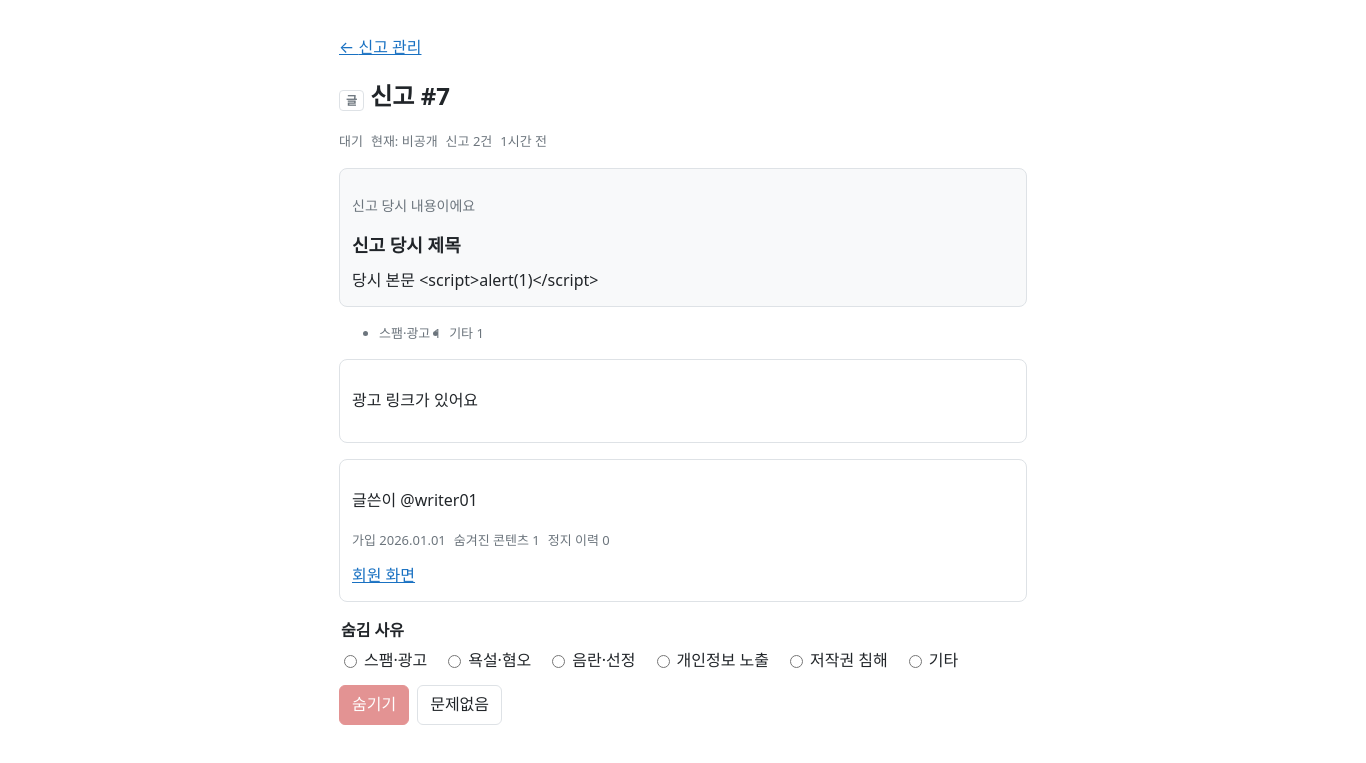
Test: AdminReportDetailPage › 409면 "이미 처리된 신고예요"와 [다시 불러오기]
Click the button "문제없음".
click(460, 705)  # box [417,685,502,725]
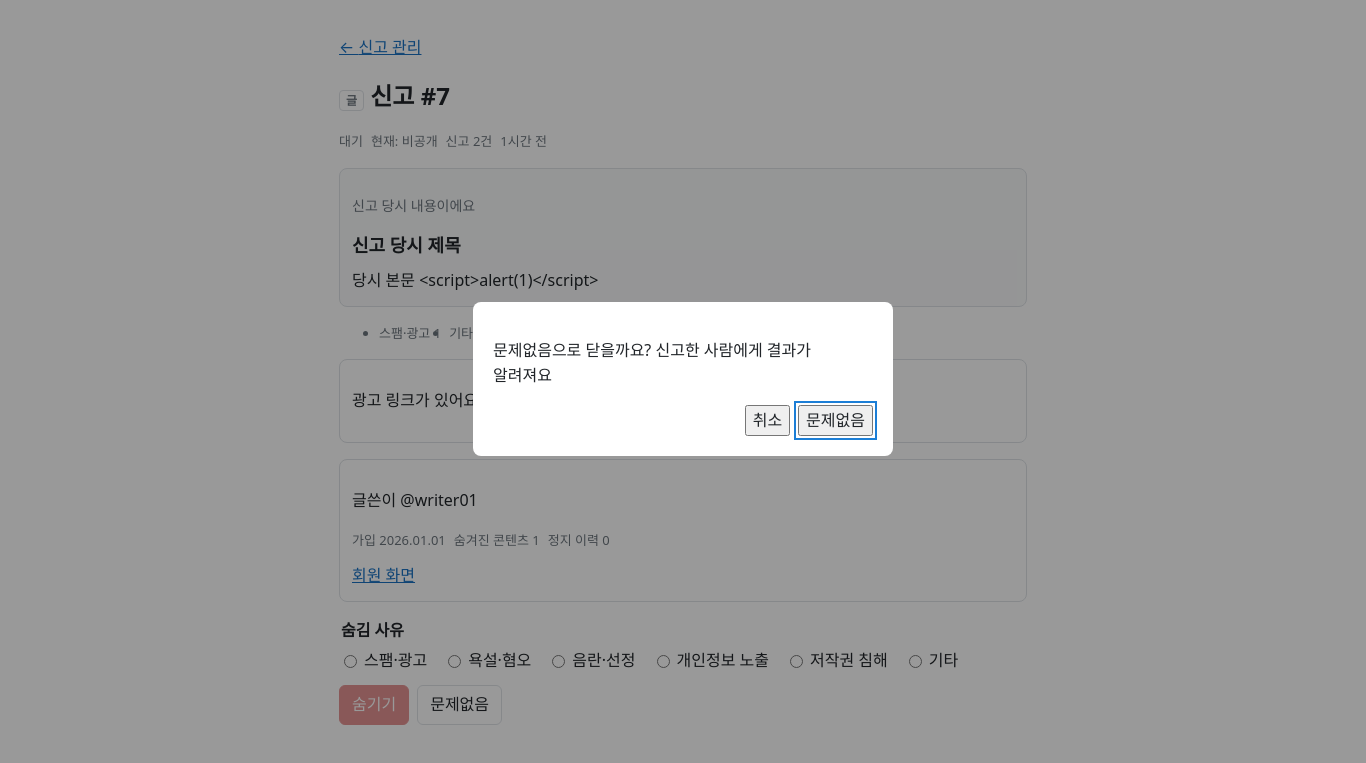
Click the button "문제없음".
click(836, 421)  # box [798,405,873,436]
(page scrolled)
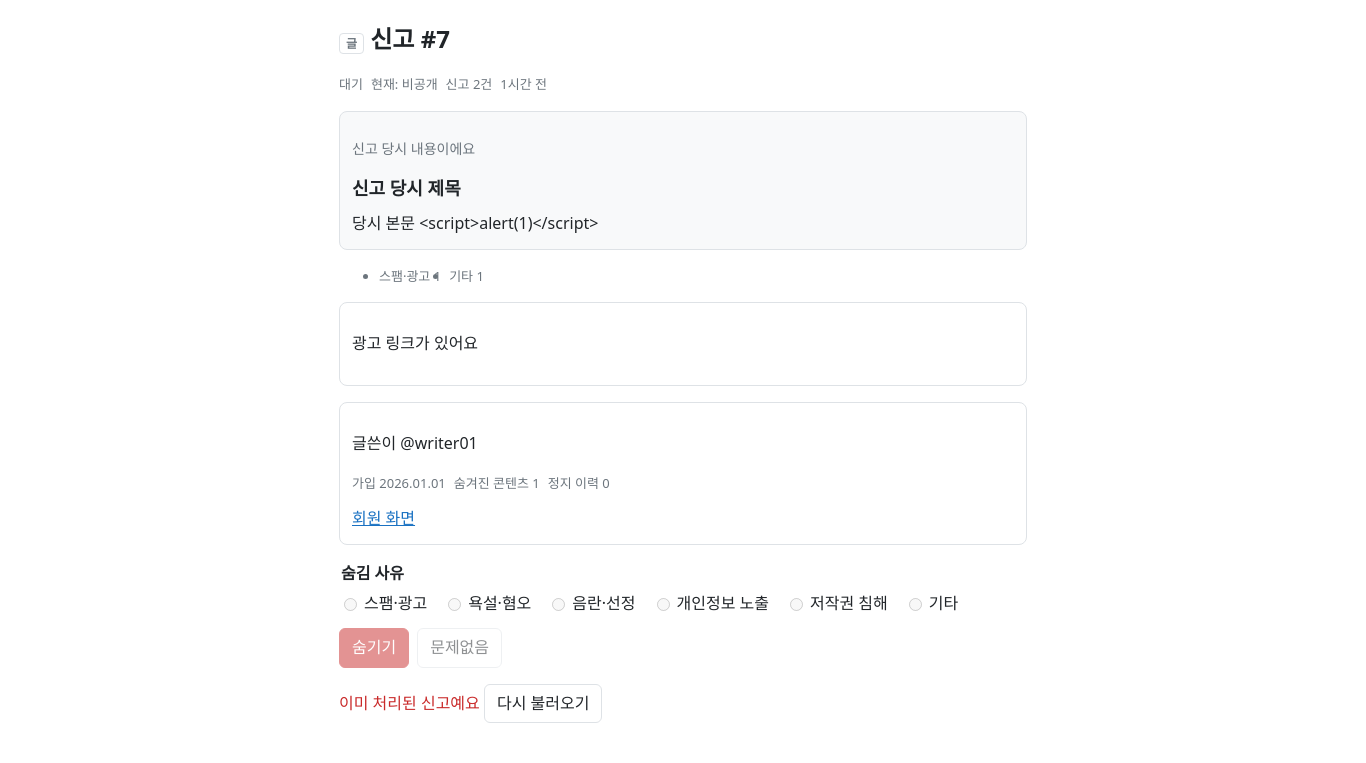
Check: the text "이미 처리된 신고예요 다시 불러오기" is shown, box [339,684,602,723]
Click the button "다시 불러오기".
click(543, 704)  # box [484,684,602,723]
(page scrolled)
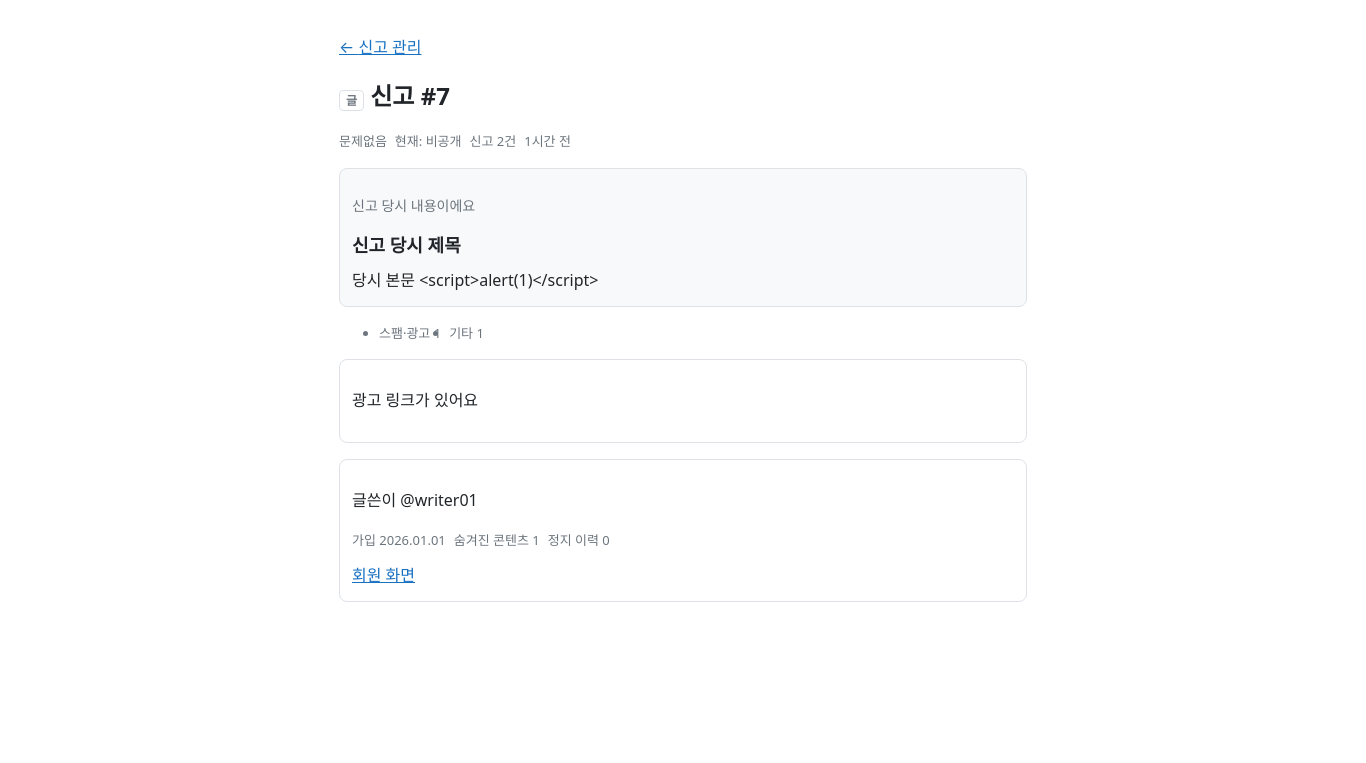
Check: the text with test id "case-status" reads "문제없음", box [339,132,387,150]
